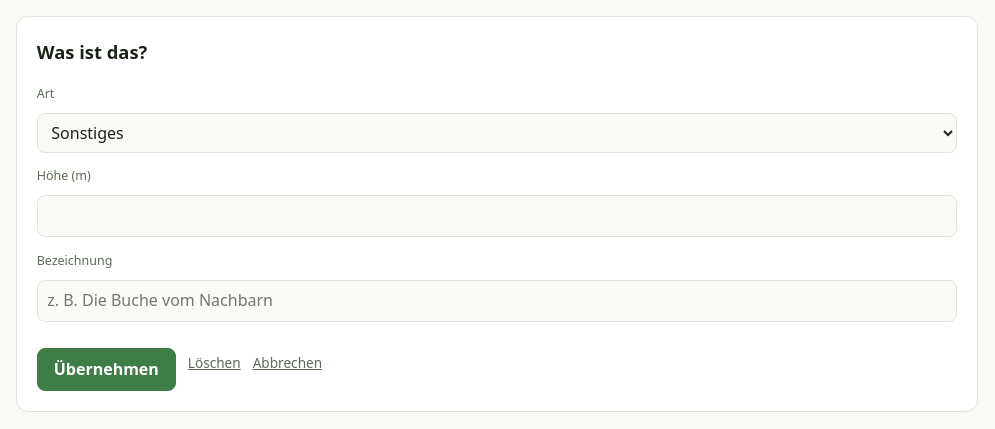
it: ElementForm — deleting › asks before deleting
Note: An element cannot be got back.
Step 1. Click the button "Löschen" → {"x": 214, "y": 362}, box left=188, top=352, right=241, bottom=373
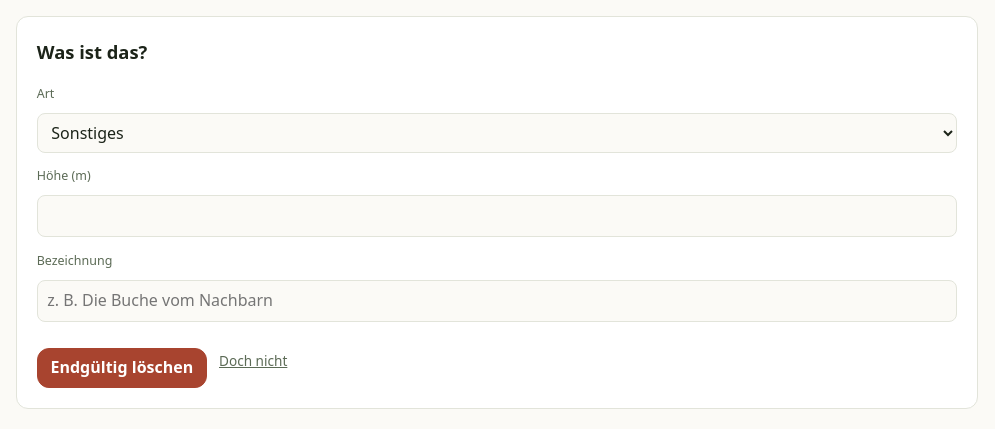
Result: the button "Endgültig löschen" is shown at left=37, top=348, right=207, bottom=388
